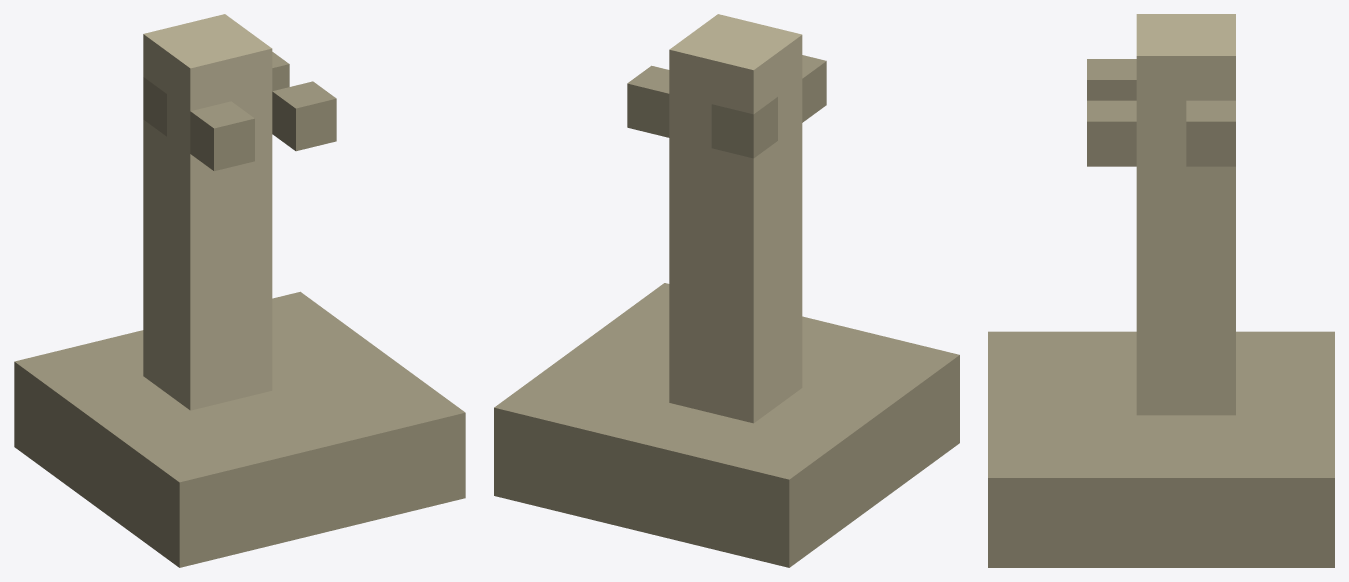
Rendered from perchero_sauce_01.glb.
The picture shows the model from 3 angles, left to right: view 1: azimuth 30°, elevation 25°; view 2: azimuth 150°, elevation 25°; view 3: azimuth 270°, elevation 25°; orthographic projection. The views are drawn at different scales.
Parts seen in each view (by area): view 1: perchero_sauce; view 2: perchero_sauce; view 3: perchero_sauce.
Boxes of the visible parts, <box> form: perchero_sauce: <box>14,14,465,567</box>; perchero_sauce: <box>494,14,959,567</box>; perchero_sauce: <box>988,14,1334,567</box>.
Size of the model in its own units: 0.5 by 0.7143 by 0.5.
